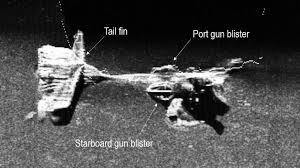plane: (35, 28, 253, 130)
